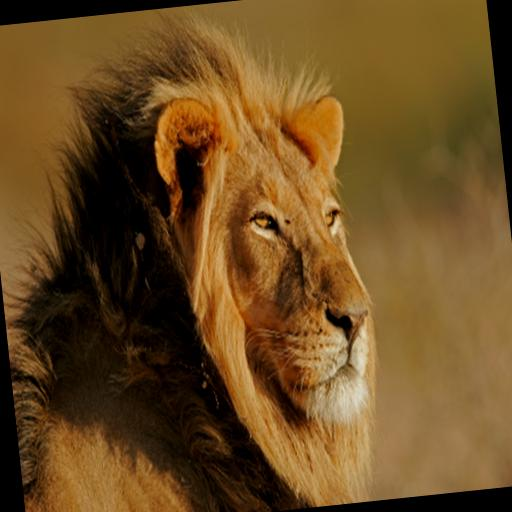lions: (19, 7, 417, 512)
